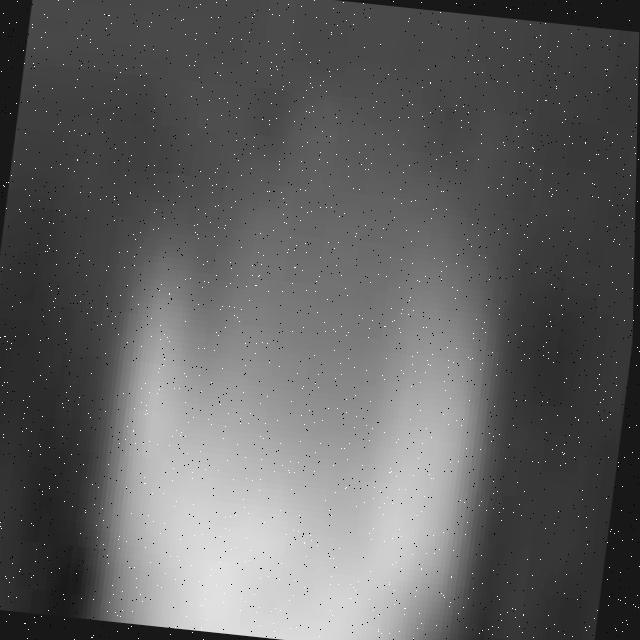person: (76, 100, 518, 640)
